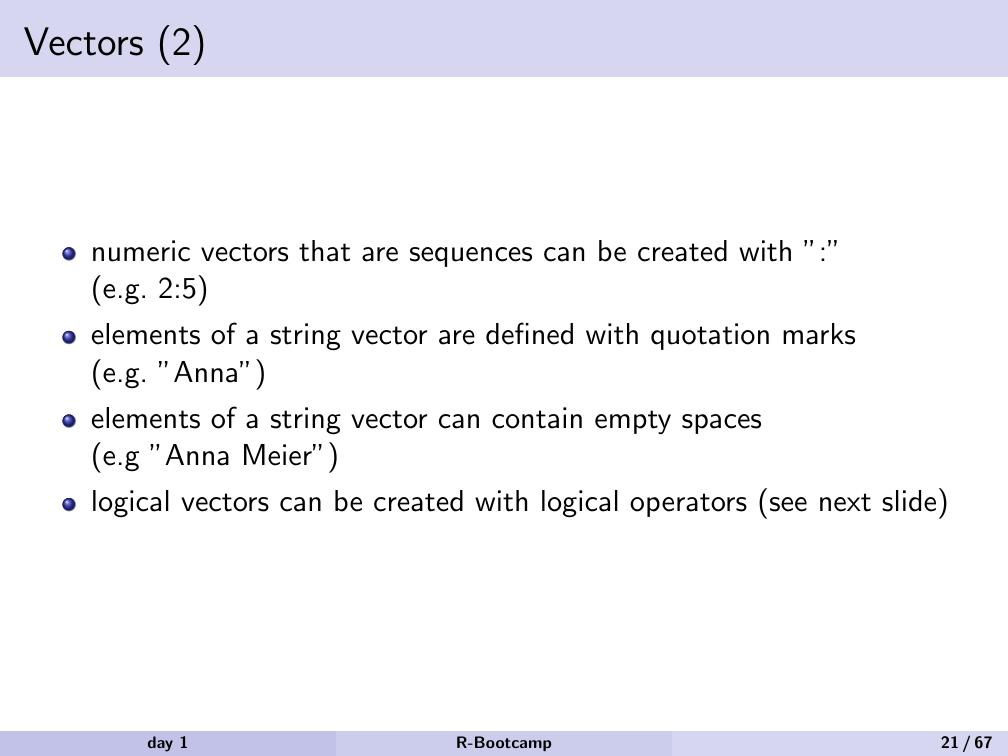Title: (11, 14, 209, 69)
